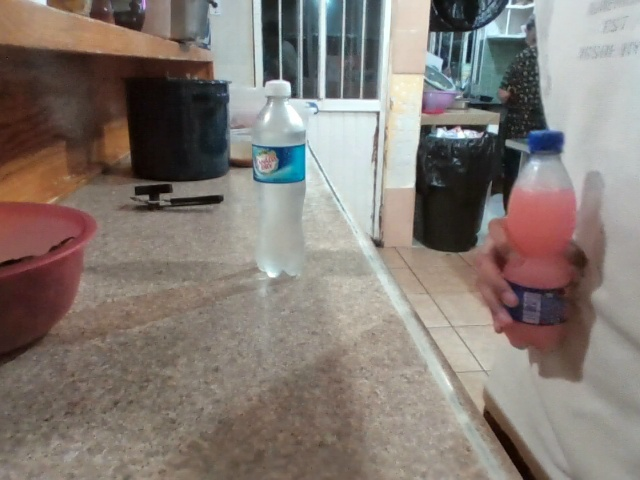botella: (476, 101, 596, 369), (236, 67, 343, 280)
